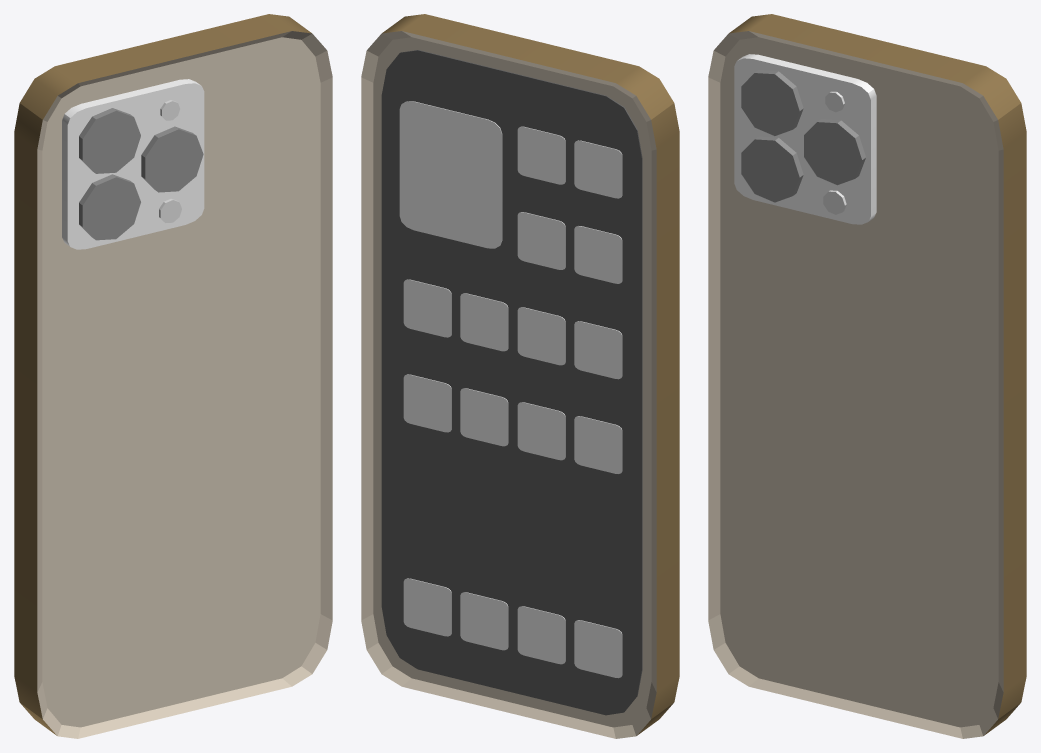
The model's file is iPhone.fbx.
3 views of the same model, side by side, from view 1: azimuth 30°, elevation 25°; view 2: azimuth 150°, elevation 25°; view 3: azimuth 330°, elevation 25° (orthographic).
Visible parts, largest first — view 1: pasted__pCube3, pCube3, pCylinder9, pCylinder8, pCylinder1; view 2: pasted__pCube4, pasted__pCube3, pasted__pCube13, pasted__pCube8, pasted__pCube20, pasted__pCube24, pasted__pCube9, pasted__pCube16, pasted__pCube17, pasted__pCube25, pasted__pCube15, pasted__pCube21 (+7 smaller); view 3: pasted__pCube3, pCube3, pCylinder8, pCylinder1, pCylinder9.
Boxes of the visible parts, left/top/right/bottom form: pasted__pCube3: left=14, top=14, right=332, bottom=738; pCube3: left=62, top=79, right=204, bottom=249; pCylinder9: left=141, top=126, right=203, bottom=192; pCylinder8: left=79, top=174, right=140, bottom=240; pCylinder1: left=79, top=108, right=140, bottom=173; pasted__pCube4: left=381, top=50, right=642, bottom=715; pasted__pCube3: left=361, top=14, right=679, bottom=738; pasted__pCube13: left=399, top=101, right=502, bottom=248; pasted__pCube8: left=574, top=140, right=622, bottom=198; pasted__pCube20: left=460, top=388, right=508, bottom=446; pasted__pCube24: left=460, top=592, right=508, bottom=650; pasted__pCube9: left=517, top=126, right=565, bottom=184; pasted__pCube16: left=460, top=293, right=508, bottom=351; pasted__pCube17: left=403, top=279, right=451, bottom=337; pasted__pCube25: left=403, top=578, right=451, bottom=636; pasted__pCube15: left=517, top=307, right=565, bottom=365; pasted__pCube21: left=403, top=374, right=451, bottom=432; pasted__pCube3: left=708, top=14, right=1026, bottom=738; pCube3: left=734, top=54, right=876, bottom=224; pCylinder8: left=741, top=136, right=803, bottom=202; pCylinder1: left=741, top=70, right=803, bottom=135; pCylinder9: left=804, top=119, right=865, bottom=185.
Size of the model in its own units: 6.36 by 13.5 by 1.09.
